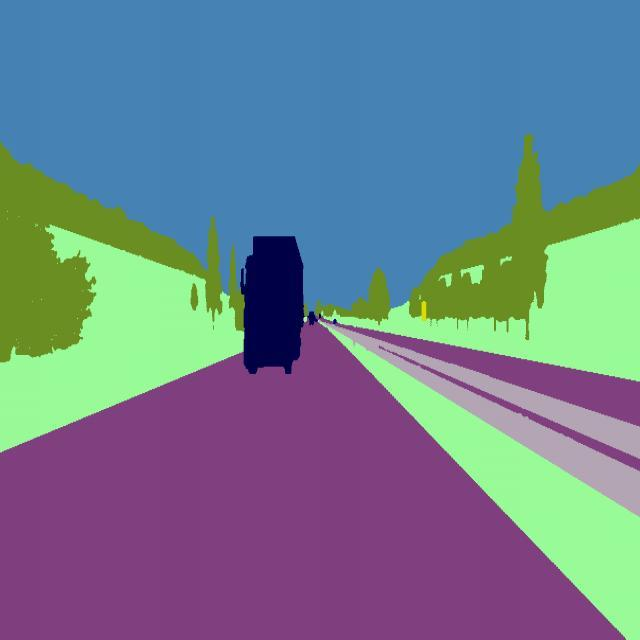safe: (240, 230, 306, 382)
